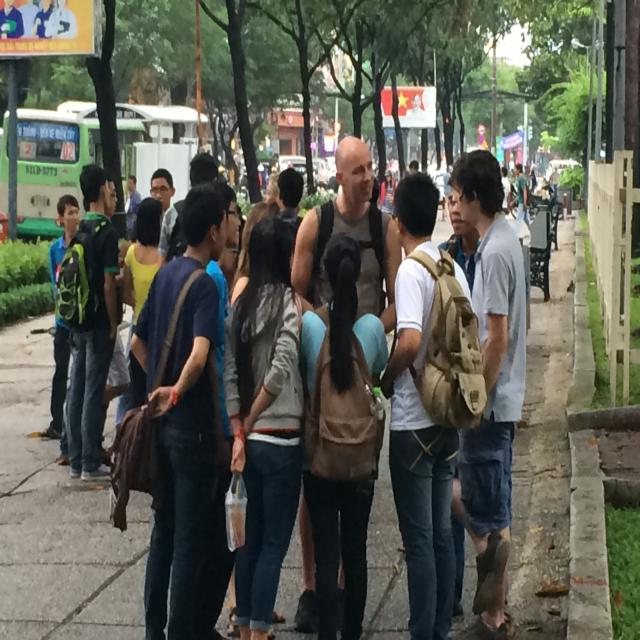body: (286, 132, 406, 638), (107, 180, 230, 640), (373, 168, 491, 640), (293, 228, 393, 640), (446, 148, 530, 630), (451, 147, 529, 640), (220, 212, 307, 640), (225, 212, 306, 628), (218, 152, 562, 242), (50, 169, 121, 470), (55, 163, 120, 482), (199, 180, 239, 638), (120, 196, 171, 412), (37, 193, 80, 446), (157, 150, 220, 270), (0, 0, 93, 60), (376, 168, 397, 246), (508, 163, 532, 221), (124, 174, 143, 242), (124, 174, 142, 241), (148, 168, 176, 210), (500, 166, 511, 209), (79, 195, 93, 215), (550, 168, 559, 199), (529, 169, 537, 194), (524, 160, 531, 180)
